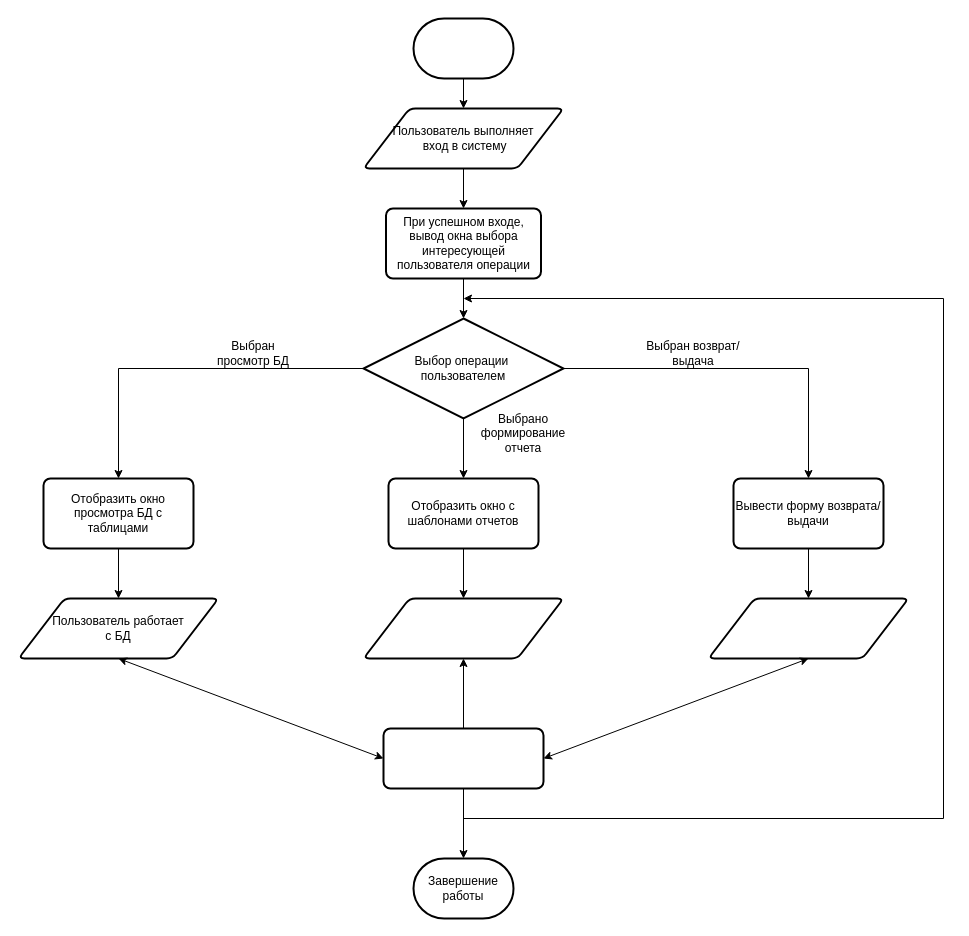
The diagram is 969 pixels wide and 936 high, and some of its shapes have lost their labels. The shapes that lost their labels are listed below. From the top down, each one's centre as x and y in pixels, then its label:
At point (463, 48): "Начало".
At point (463, 628): "Пользователь задаёт параметры отчета".
At point (808, 628): "Пользователь заполняет форму".
At point (463, 758): "Обновить базу данных новой информацией".
